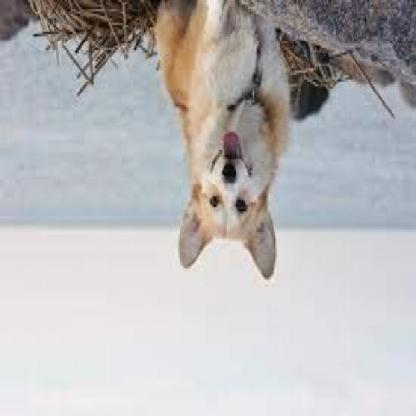dog: (153, 0, 292, 280)
